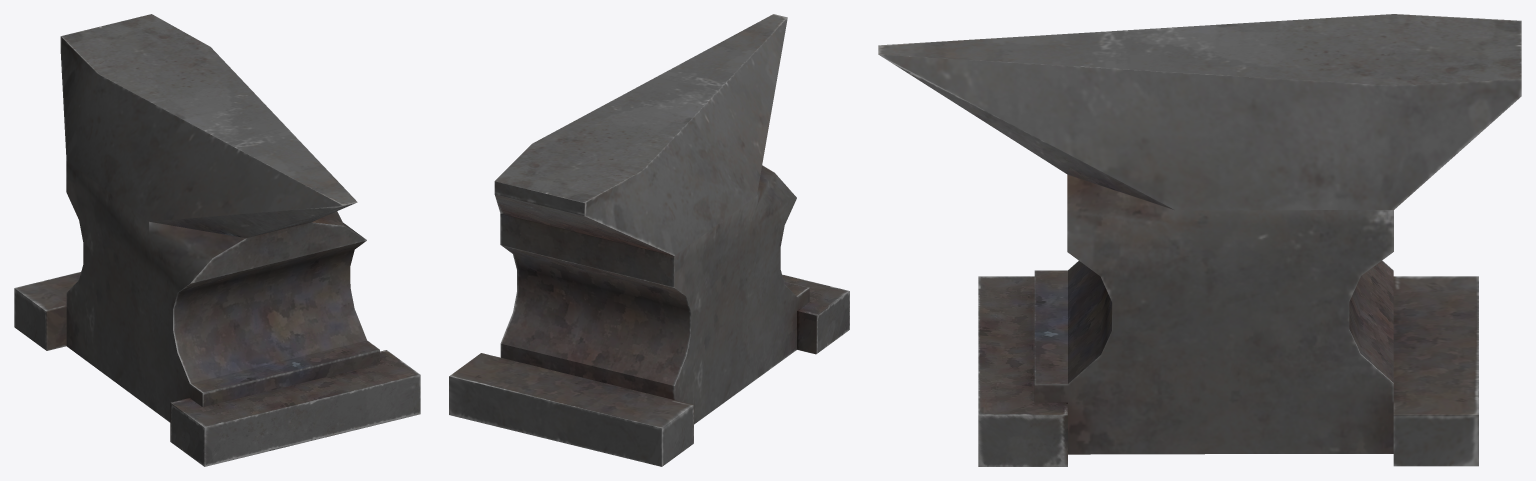
The model's file is Anvil.fbx.
3 views of the same model, side by side, from view 1: azimuth 30°, elevation 25°; view 2: azimuth 150°, elevation 25°; view 3: azimuth 270°, elevation 25° (orthographic). The views are drawn at different scales.
Parts seen in each view (by area): view 1: Anvil; view 2: Anvil; view 3: Anvil.
Part boxes in pixels (x1,y1,x2,y2): Anvil: [14, 14, 420, 466]; Anvil: [449, 14, 849, 466]; Anvil: [878, 14, 1521, 466].
Bounding box in the file's own units: 34.94 × 40.83 × 68.44.
